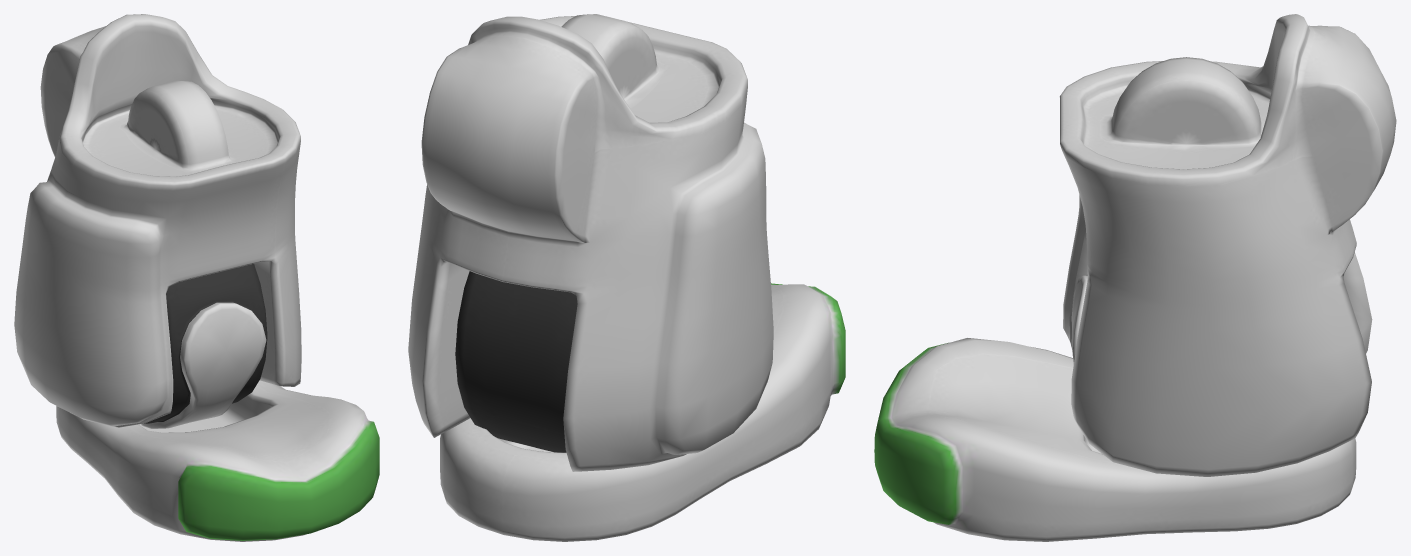
The model's file is left_second_leg.obj.
The picture shows the model from 3 angles, left to right: view 1: azimuth 30°, elevation 25°; view 2: azimuth 150°, elevation 25°; view 3: azimuth 270°, elevation 25°; orthographic projection. The views are drawn at different scales.
Parts seen in each view (by area): view 1: transform30 _Robot_l2:Body, _Robot_l2:Body transform32, _Robot_l2:Body transform31; view 2: transform30 _Robot_l2:Body, _Robot_l2:Body transform32, _Robot_l2:Body transform31; view 3: transform30 _Robot_l2:Body, _Robot_l2:Body transform32, _Robot_l2:Body transform31.
Part boxes in pixels (<box>): transform30 _Robot_l2:Body: <box>14,14,301,427</box>; _Robot_l2:Body transform32: <box>56,380,379,541</box>; _Robot_l2:Body transform31: <box>140,263,267,428</box>; transform30 _Robot_l2:Body: <box>408,14,773,471</box>; _Robot_l2:Body transform32: <box>440,283,845,541</box>; _Robot_l2:Body transform31: <box>455,271,577,452</box>; transform30 _Robot_l2:Body: <box>1059,14,1396,476</box>; _Robot_l2:Body transform32: <box>874,338,1356,541</box>; _Robot_l2:Body transform31: <box>1071,275,1087,363</box>.
Bounding box in the file's own units: 4.02 × 6.44 × 6.62.
Materials: 1 (1 with a texture image).
